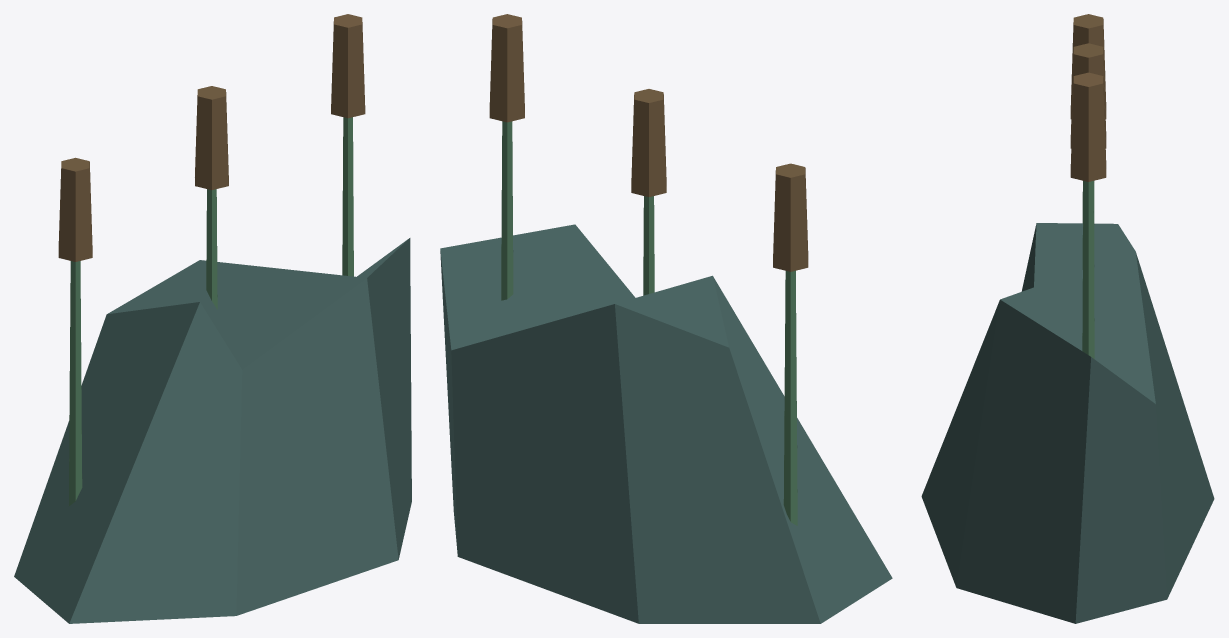
File: map-boundaries-v5__lake_12.glb
The picture shows the model from 3 angles, left to right: view 1: azimuth 30°, elevation 25°; view 2: azimuth 150°, elevation 25°; view 3: azimuth 270°, elevation 25°; orthographic projection. The views are drawn at different scales.
Visible parts, largest first — view 1: lake_12; view 2: lake_12; view 3: lake_12.
Part boxes in pixels (x1=…): lake_12: x1=14, y1=14, x2=411, y2=623; lake_12: x1=440, y1=14, x2=892, y2=623; lake_12: x1=921, y1=14, x2=1214, y2=623.
Size of the model in its own units: 1.37 by 1.65 by 0.8514.
